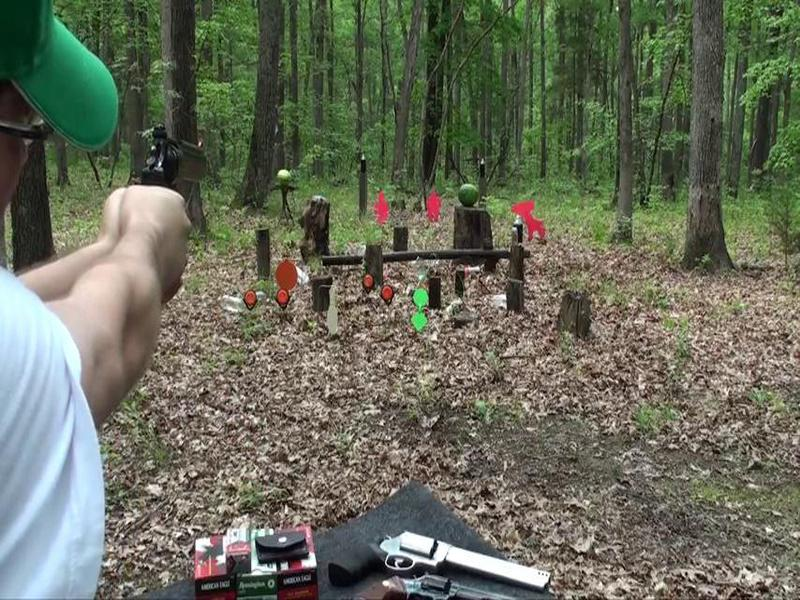Revolver: (135, 108, 234, 210)
